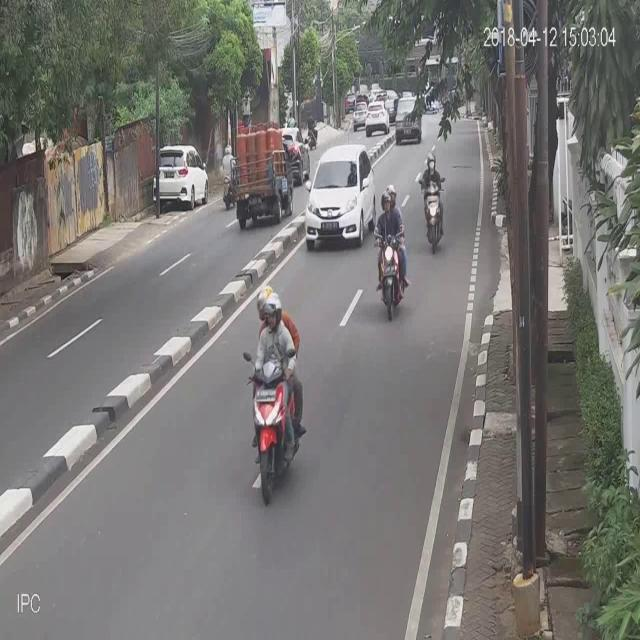bus: (243, 283, 309, 505), (373, 180, 411, 322), (419, 148, 447, 254), (219, 139, 233, 207)
motorcycle: (305, 140, 375, 254), (153, 136, 211, 211), (281, 126, 311, 190), (396, 95, 422, 145), (366, 96, 390, 134), (352, 98, 366, 130)
truck: (234, 129, 294, 227)
